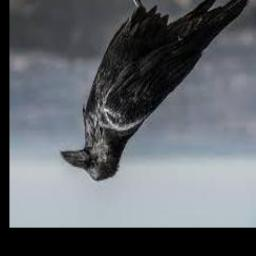Crow: (61, 0, 252, 182)
